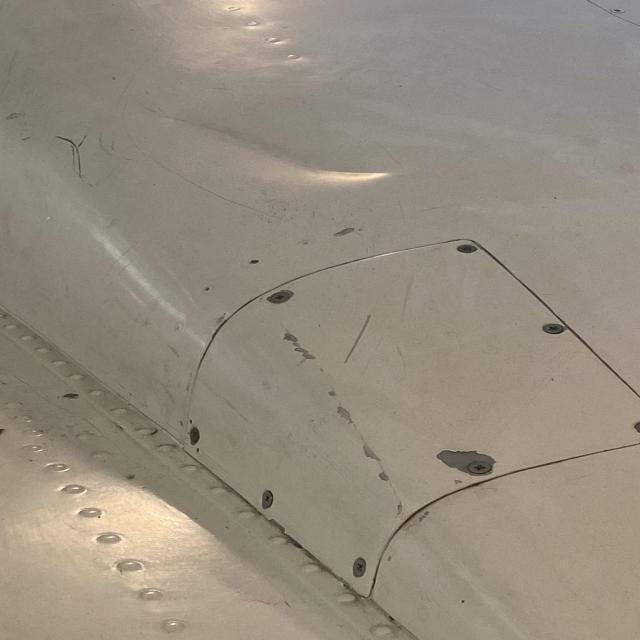Dent: (102, 83, 403, 218)
Paint-off: (437, 450, 494, 476), (280, 331, 316, 363), (330, 388, 359, 426), (331, 226, 360, 238), (364, 444, 381, 462), (377, 470, 389, 483)
Scratch: (344, 315, 371, 365)
